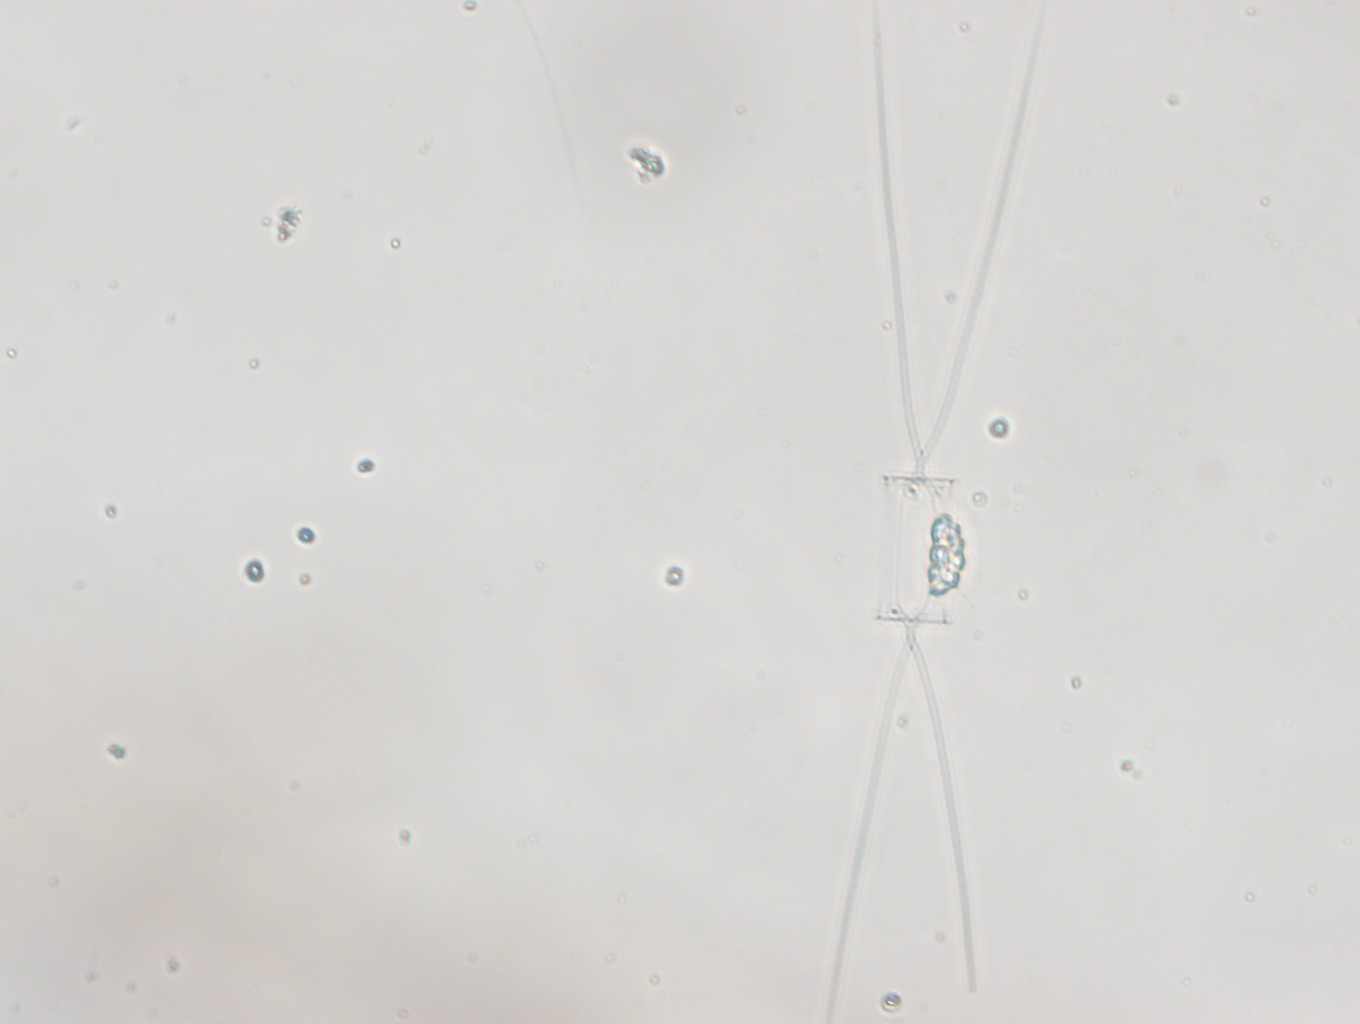chaetoceros: (824, 1, 1051, 1024)
